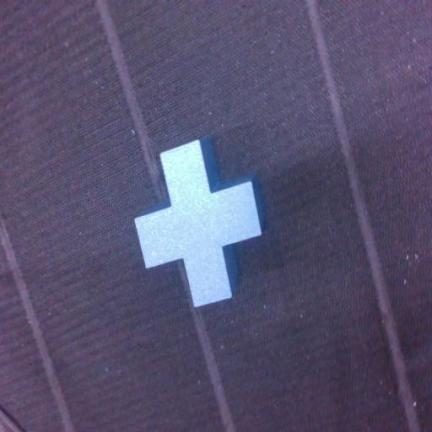cross: (135, 141, 261, 307)
